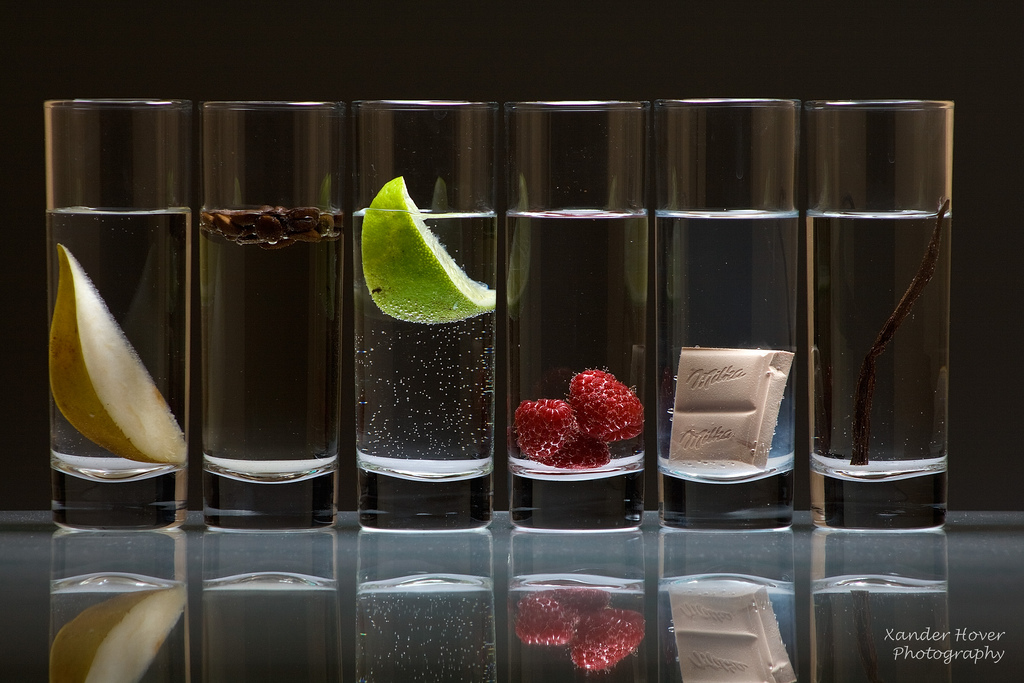glass of water: (40, 100, 978, 538)
